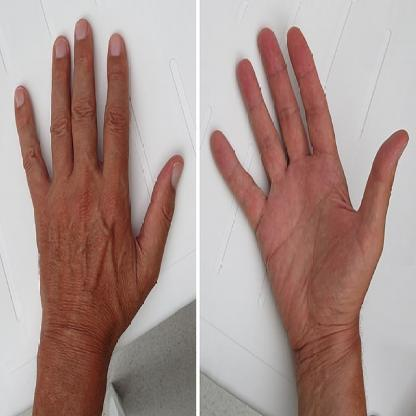palm: (209, 24, 412, 383)
